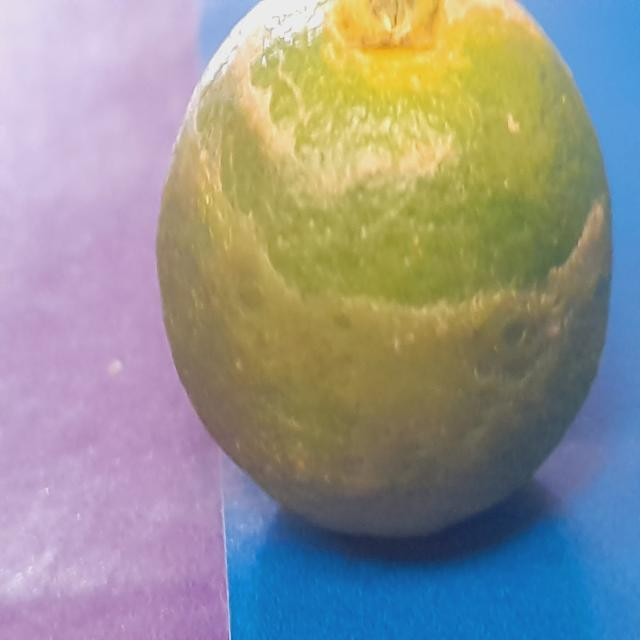thrips: (146, 15, 606, 559)
